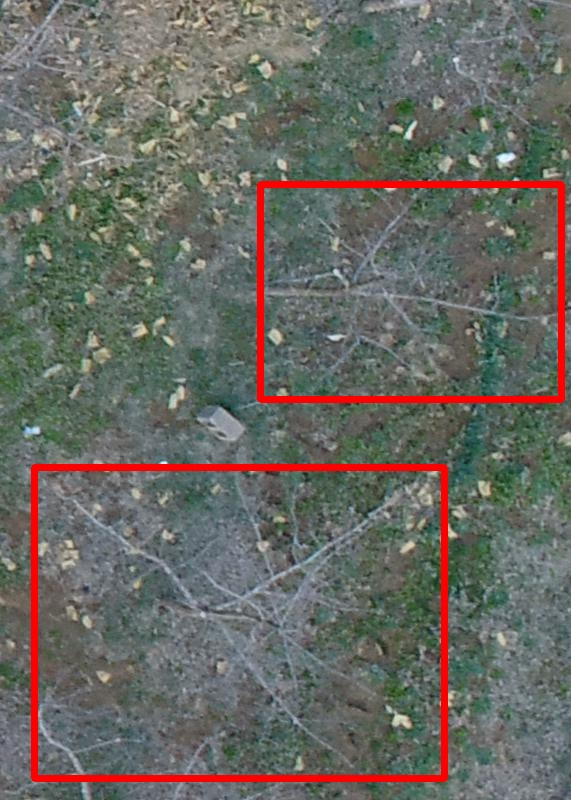apple: (34, 467, 444, 778), (260, 184, 561, 399)
